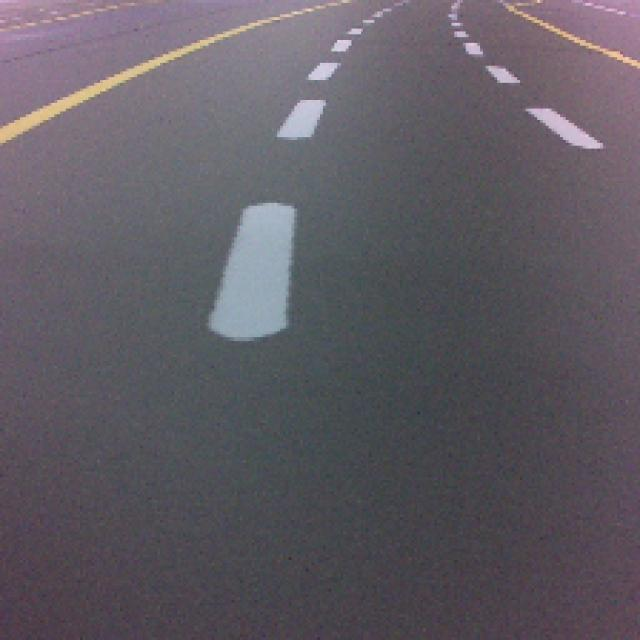Guard rail: (212, 202, 291, 340)
